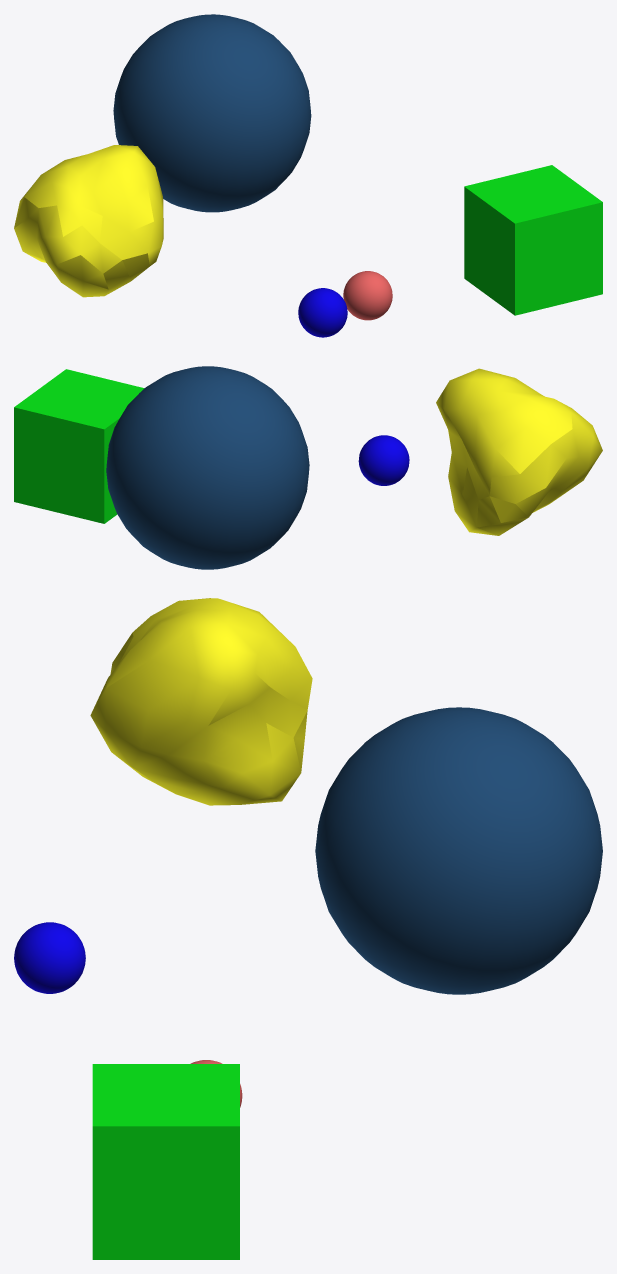
File: primitives.gltf
3 views of the same model, one above another, from view 1: azimuth 30°, elevation 25°; view 2: azimuth 150°, elevation 25°; view 3: azimuth 270°, elevation 25° (orthographic). The views are drawn at different scales.
Parts seen in each view (by area): view 1: Sphere_2, Cube_1, Geosphere, Sphere_3, Sphere_1; view 2: Sphere_2, Geosphere, Cube_1, Sphere_3; view 3: Sphere_2, Geosphere, Cube_1, Sphere_3.
Boxes of the visible parts, box(x1,y1,x2,y2) form: Sphere_2: box(113, 14, 311, 212); Cube_1: box(464, 165, 602, 315); Geosphere: box(14, 145, 163, 297); Sphere_3: box(298, 288, 347, 337); Sphere_1: box(343, 271, 392, 320); Sphere_2: box(106, 366, 309, 569); Geosphere: box(436, 368, 602, 535); Cube_1: box(14, 369, 144, 523); Sphere_3: box(358, 435, 409, 485); Sphere_2: box(315, 707, 602, 994); Geosphere: box(90, 598, 312, 805); Cube_1: box(92, 1064, 239, 1259); Sphere_3: box(14, 922, 85, 993).
Bounding box in the file's own units: 5.45 × 2.41 × 3.58.
